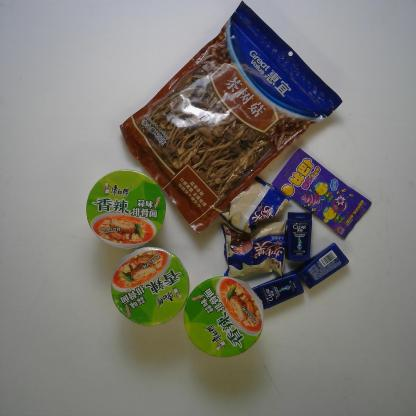Candy: (270, 147, 373, 240)
Dessert: (219, 176, 290, 236), (218, 221, 286, 277)
Dried Food: (118, 0, 343, 236)
Instant Noodles: (182, 275, 264, 358), (110, 245, 191, 327), (84, 169, 166, 250)
Personal Hygiene: (295, 242, 350, 290), (250, 270, 304, 310), (284, 211, 313, 262)
